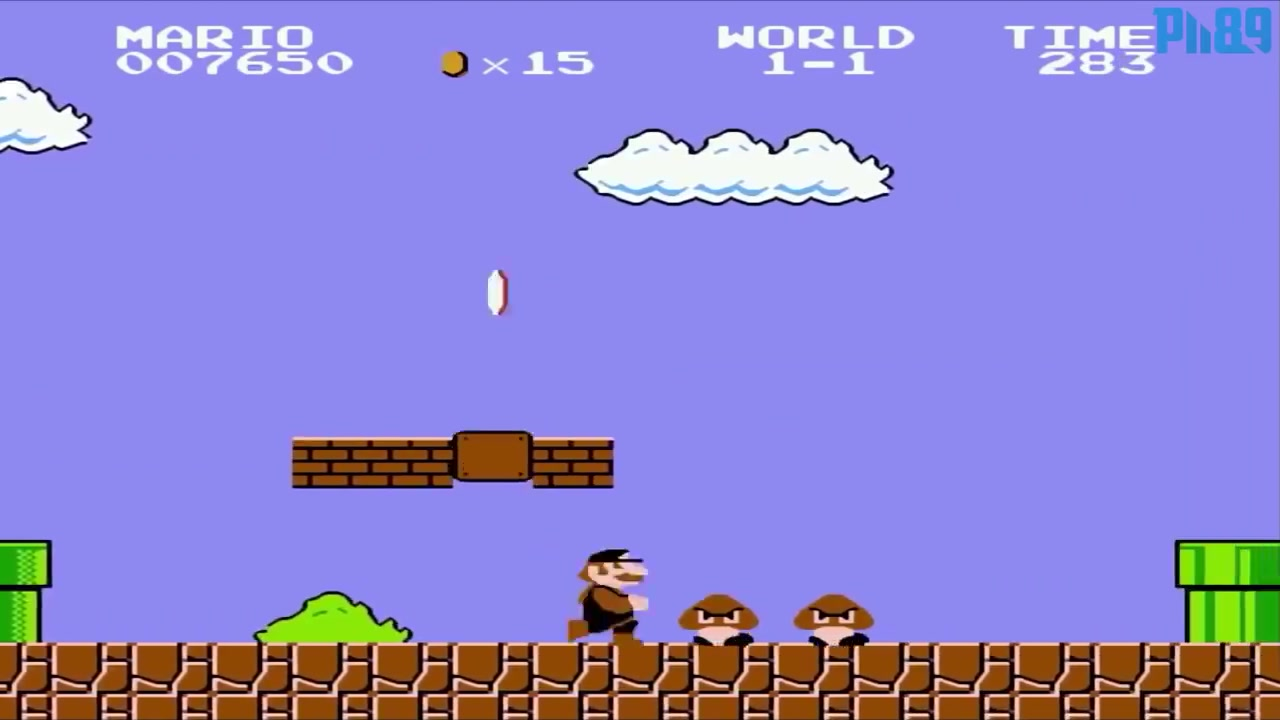mario: (569, 542, 652, 644)
